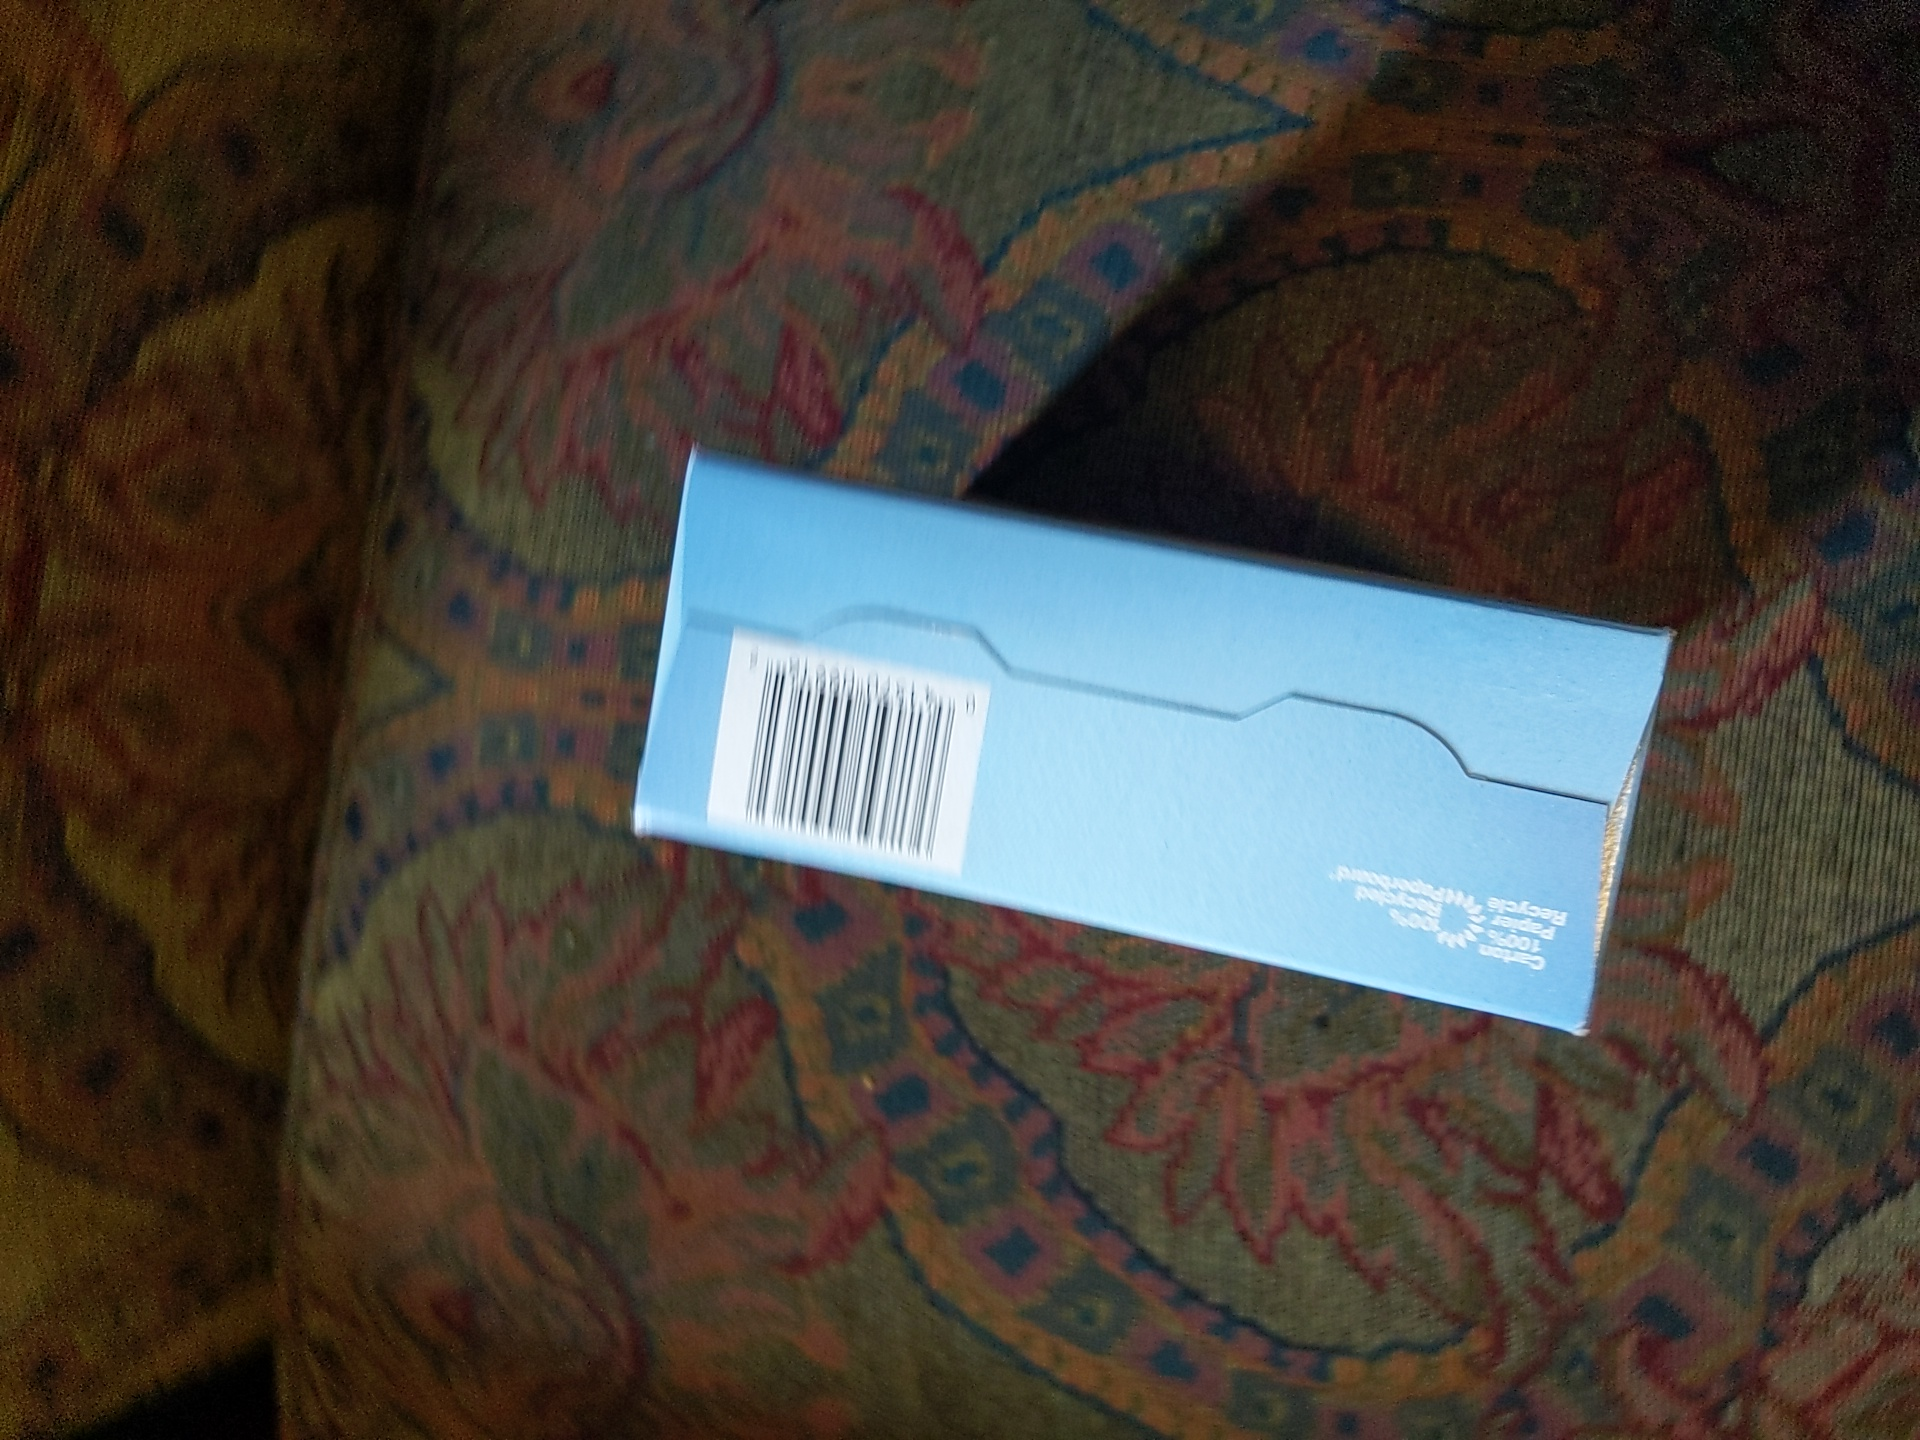blue_diamond_nut_thins_almond_seasalt: (655, 486, 1637, 977)
